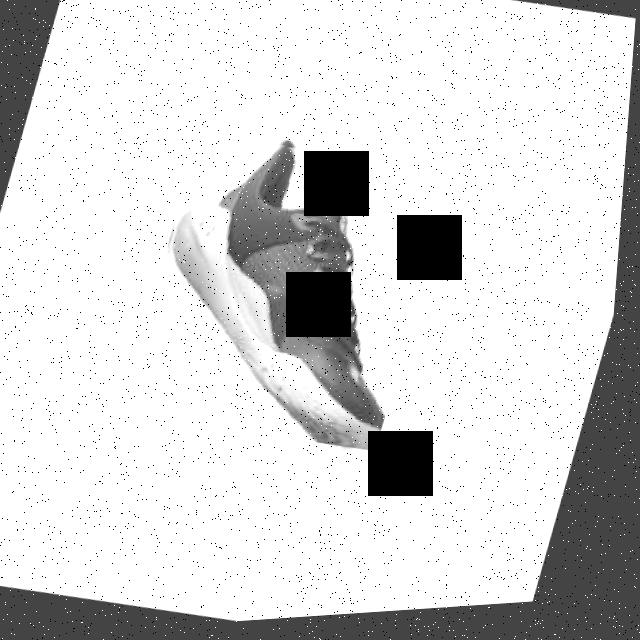shoe: (120, 116, 462, 470)
